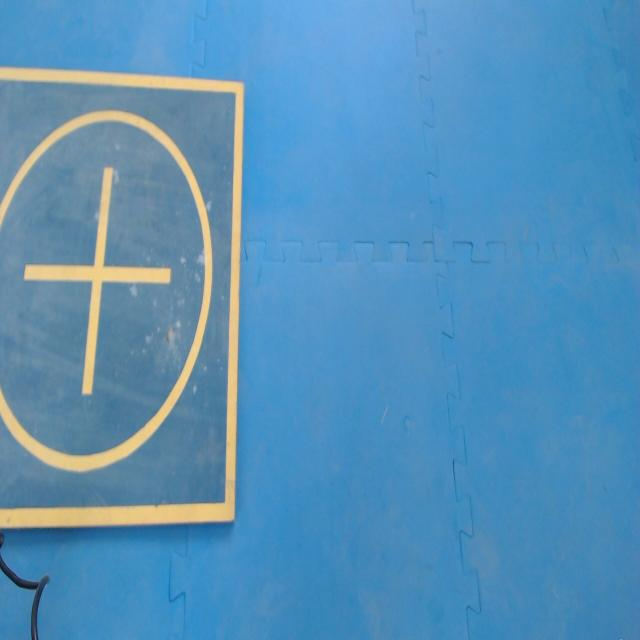base_pouso: (0, 68, 245, 531)
